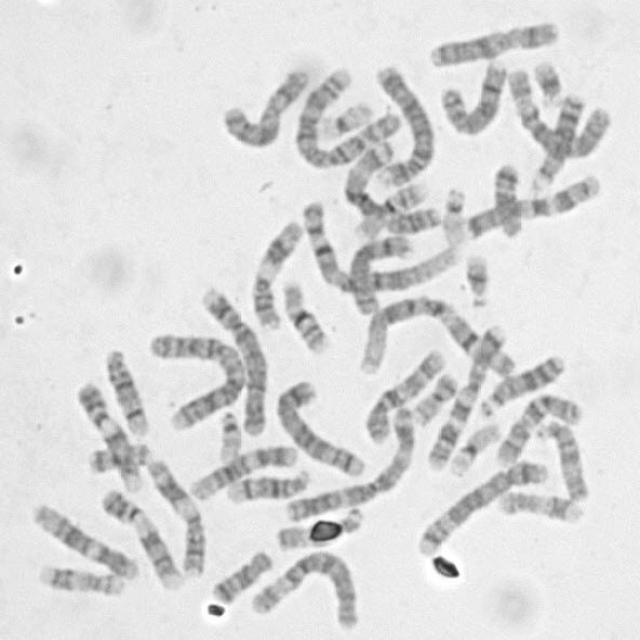A1: (296, 194, 458, 296), (356, 289, 516, 381)
A2: (292, 62, 402, 170), (144, 325, 253, 432)
A3: (279, 401, 419, 525), (338, 137, 441, 236)
B4: (197, 280, 272, 438), (370, 60, 436, 189)
B5: (413, 454, 552, 558), (270, 372, 368, 479)
C10: (359, 343, 447, 446), (491, 386, 584, 468)
C11: (142, 454, 208, 578), (246, 215, 306, 331)
C12: (26, 497, 139, 582), (184, 438, 300, 502)
C6: (503, 62, 614, 162), (244, 545, 362, 633)
C7: (422, 316, 510, 473), (459, 168, 604, 241)
C8: (435, 54, 510, 138), (346, 228, 415, 318)
C9: (94, 482, 185, 591), (71, 375, 148, 495)
D13: (526, 89, 588, 193), (476, 348, 566, 417)
D14: (98, 342, 152, 438), (223, 464, 312, 506)
D15: (533, 414, 591, 504), (274, 507, 366, 550)
E16: (352, 178, 431, 241), (277, 275, 331, 355)
E17: (34, 558, 128, 599), (494, 486, 587, 526)
E18: (207, 544, 276, 606), (490, 157, 525, 237)
F19: (444, 416, 503, 477), (317, 94, 375, 141)
F20: (406, 368, 459, 428), (84, 439, 152, 475)
G21: (528, 54, 566, 109), (461, 248, 493, 309)
G22: (438, 181, 469, 248), (213, 403, 244, 462)
X: (216, 61, 314, 150), (425, 14, 562, 68)
